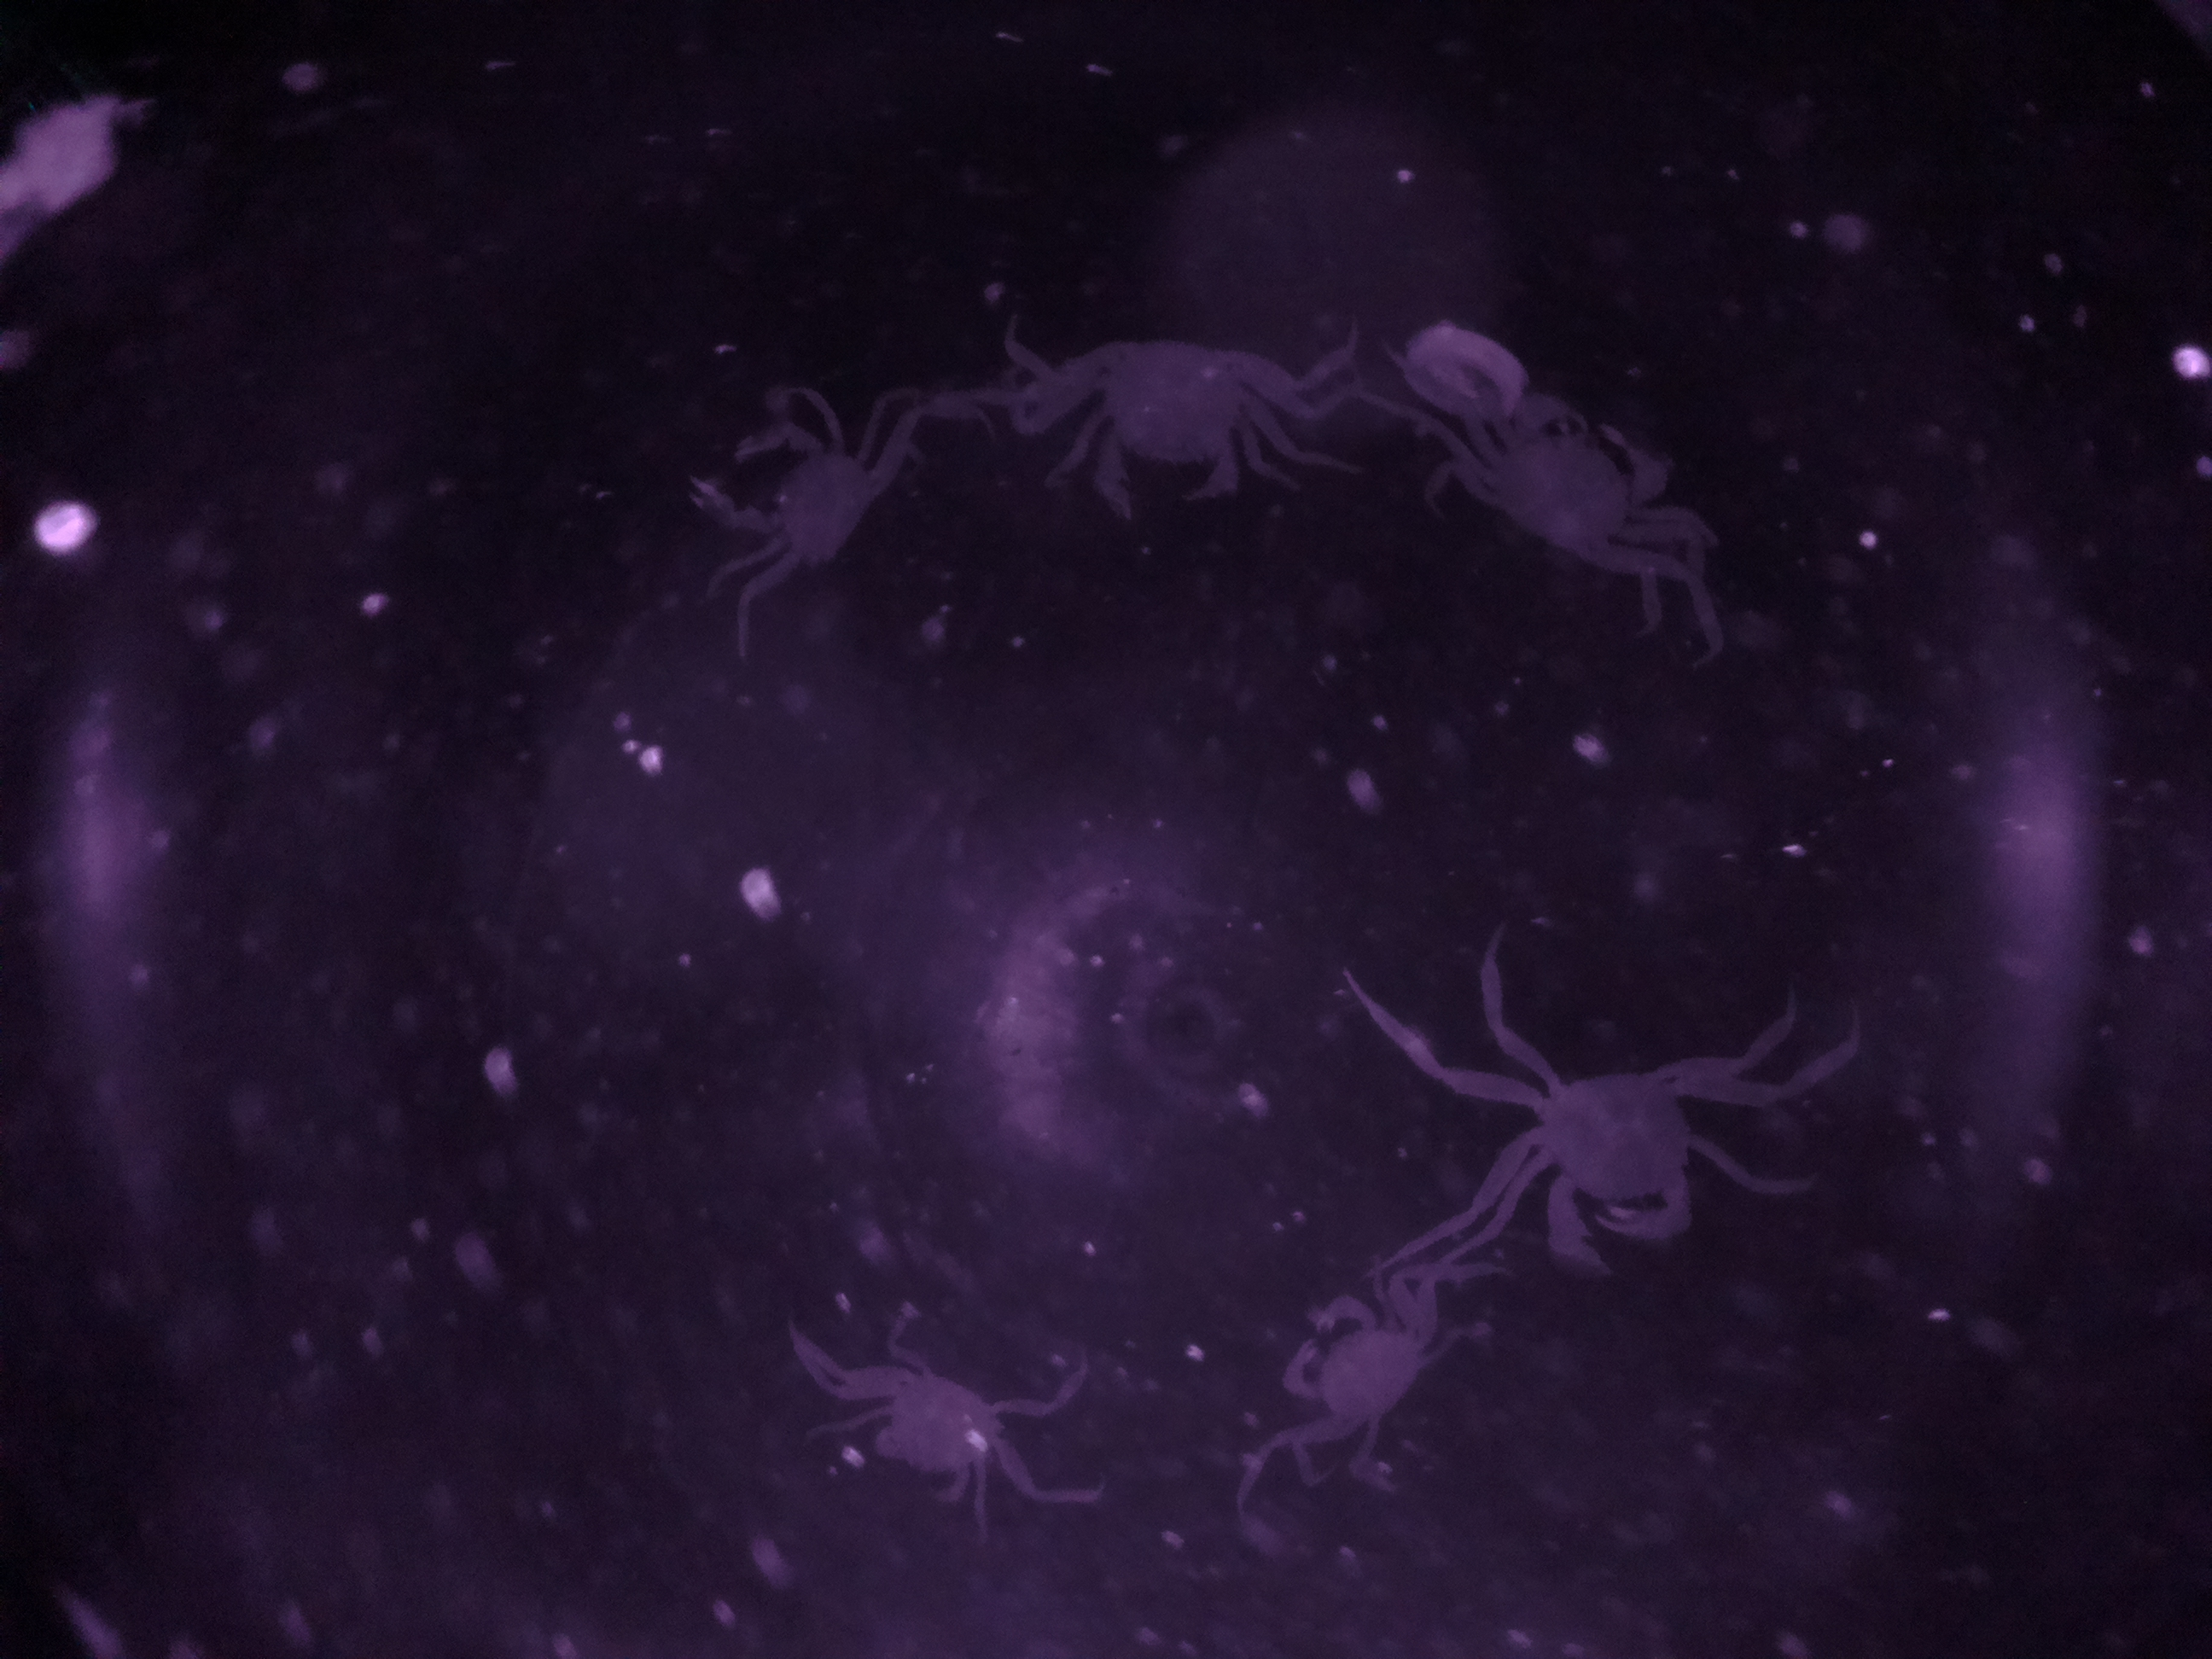Crab: (1456, 1030, 1764, 1305), (1035, 307, 1336, 558), (1425, 373, 1702, 608), (634, 380, 928, 599), (1242, 1263, 1491, 1474), (829, 1340, 1069, 1549)
